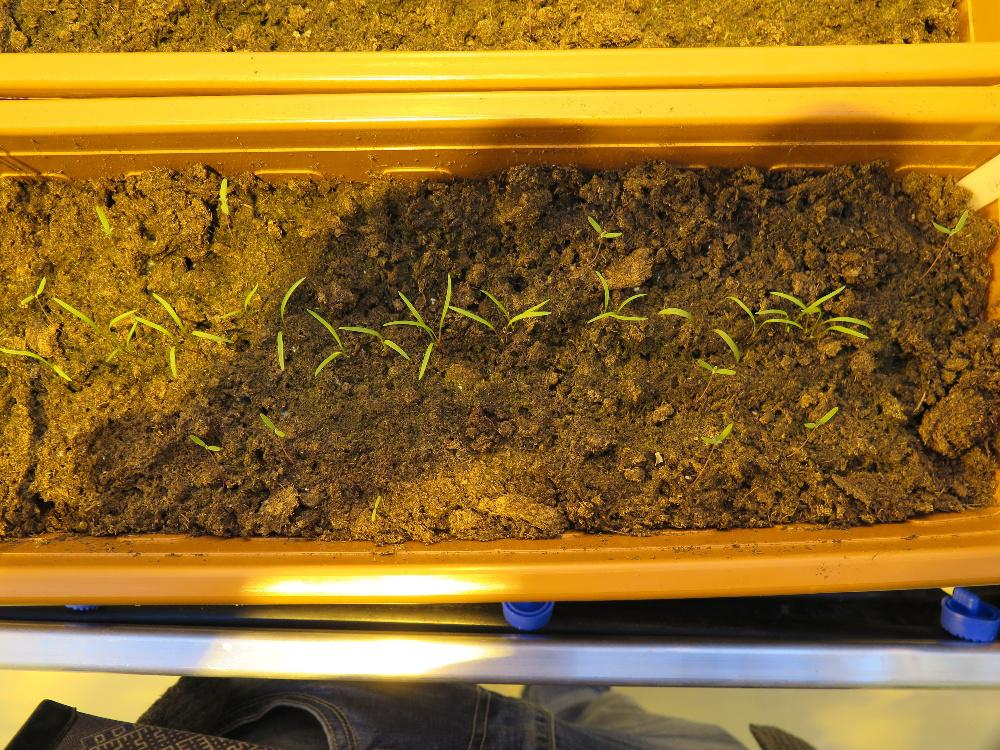crop: (275, 274, 305, 371), (214, 278, 258, 321)
weed: (931, 206, 968, 235), (585, 213, 622, 238), (92, 202, 114, 241), (803, 404, 838, 428), (18, 274, 45, 305), (698, 420, 733, 443), (257, 410, 284, 438), (695, 357, 735, 375), (187, 432, 220, 451), (216, 176, 230, 213), (369, 493, 380, 522)
